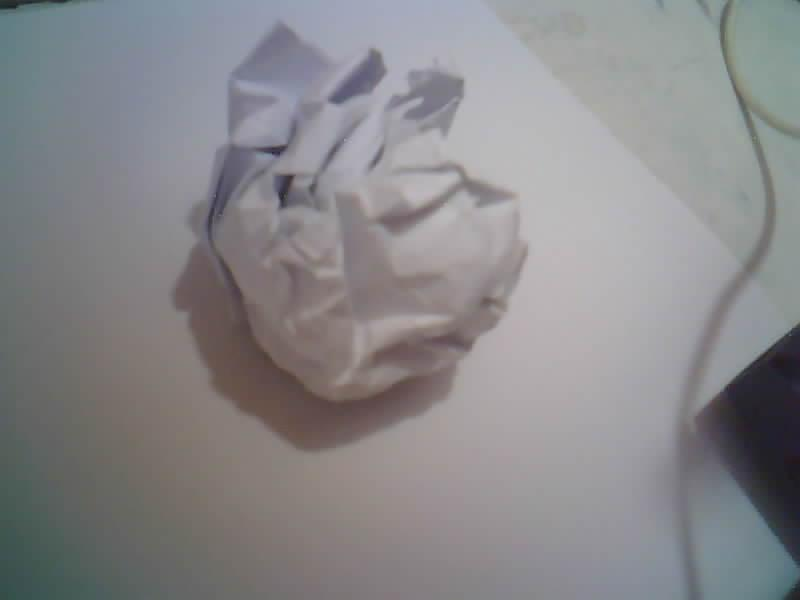biodegradable: (208, 24, 526, 401)
